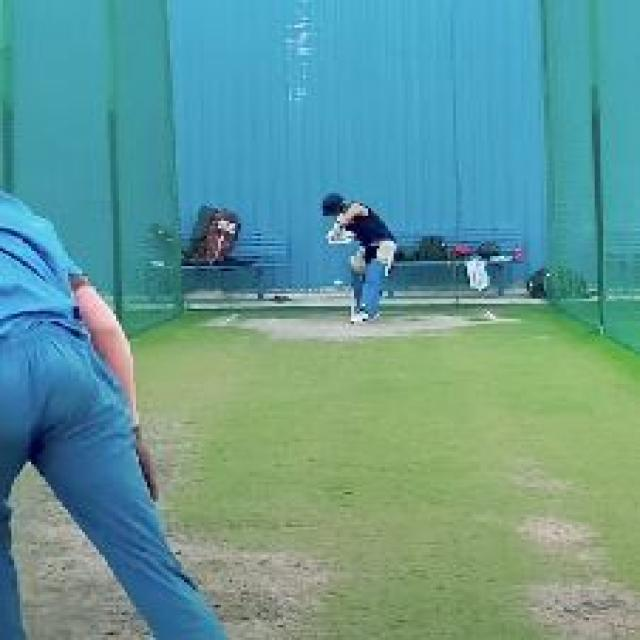ball: (328, 273, 348, 292)
